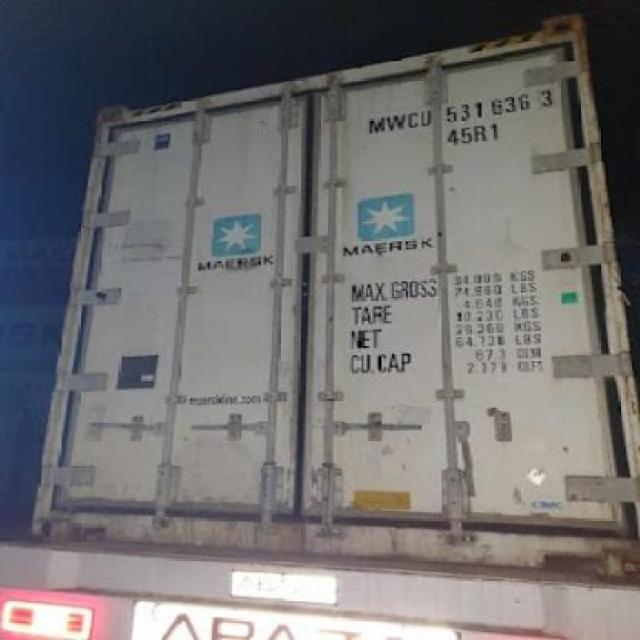ISO: (446, 125, 499, 144)
container_number: (364, 90, 552, 140)
